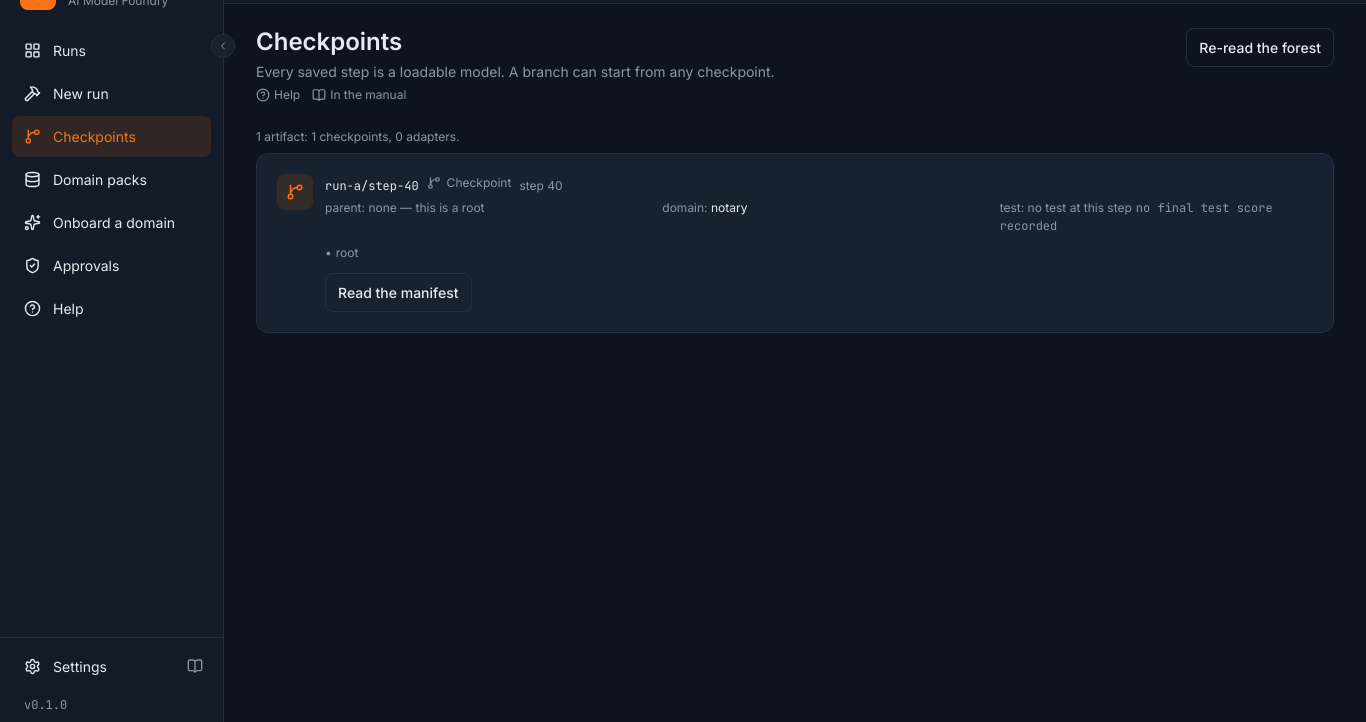
Test: [App] › Help (ENH-004): reached through the real app › should open a screen's own Help topic from its page head, with the topic in the URL
What coordinates should you click on to do the following:
click the button with test id "help-open-checkpoints"
I would click on:
 (278, 95)
Its box is [256,86,300,104].
(page scrolled)
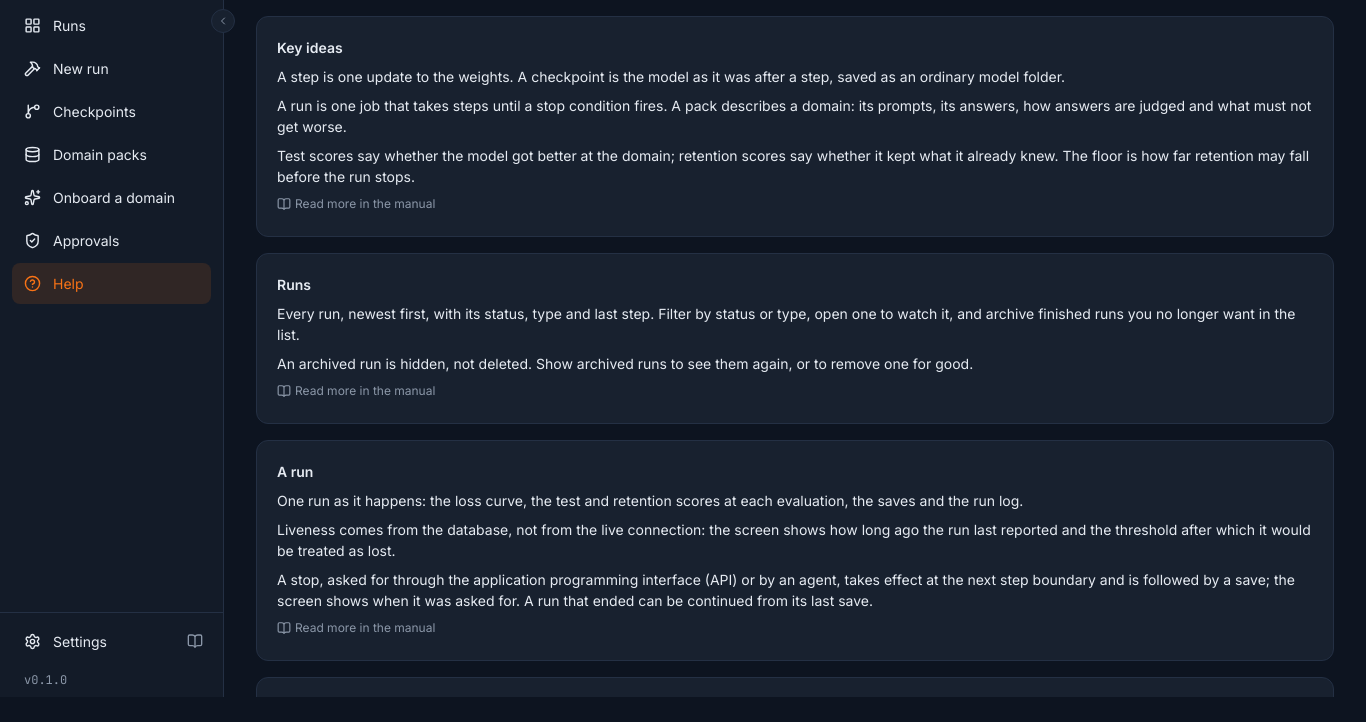
Now the element with test id "page-head-help" is gone
